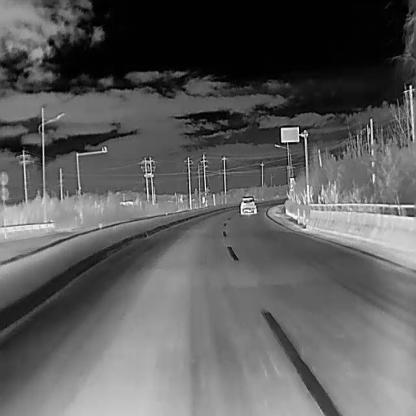car: (239, 195, 257, 214)
